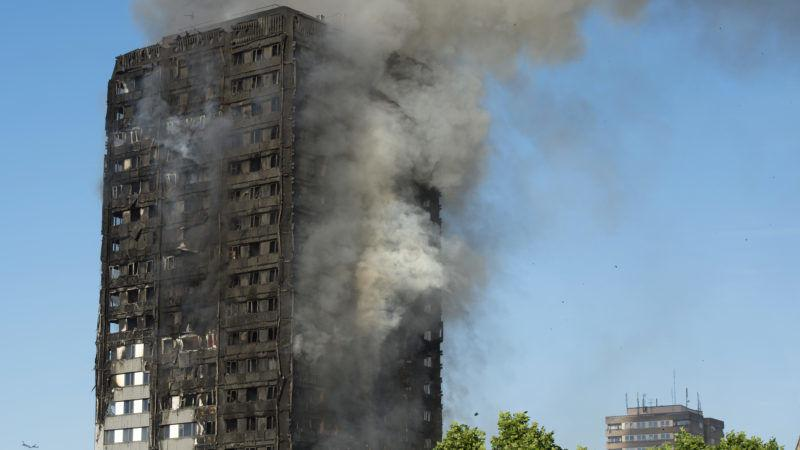smoke: (296, 0, 492, 314), (138, 52, 235, 332), (511, 90, 633, 247), (291, 315, 423, 450), (685, 0, 800, 82), (493, 0, 600, 88), (446, 315, 491, 407), (136, 0, 240, 31), (605, 0, 652, 24)
